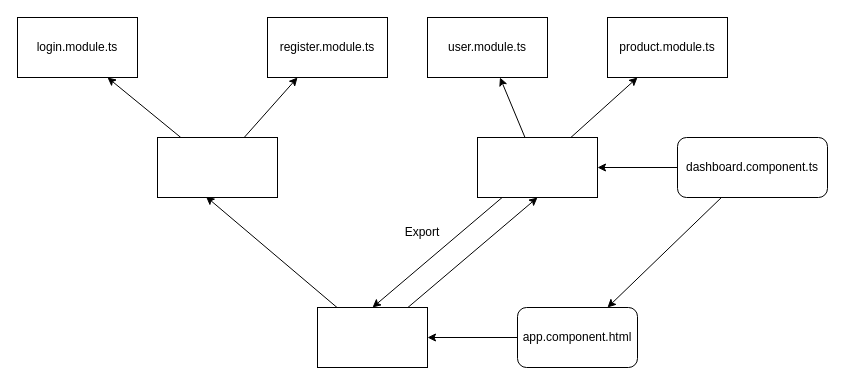
The diagram is 845 pixels wide and 385 high, and some of its shapes have lost their labels. The shapes that lost their labels are listed below. From the top down, each one's centre as x and y in pixels, then its label:
At pixel 217 167: "auth.module.ts".
At pixel 537 167: "dashboard.module.ts".
At pixel 372 337: "app.module.ts".
